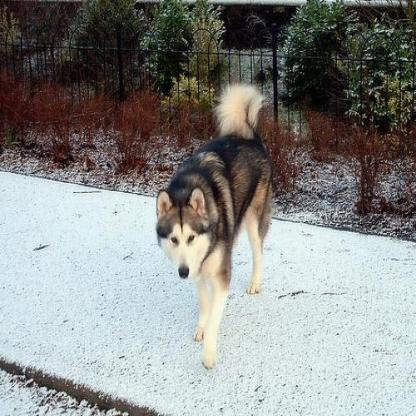malamute: (154, 79, 276, 370)
